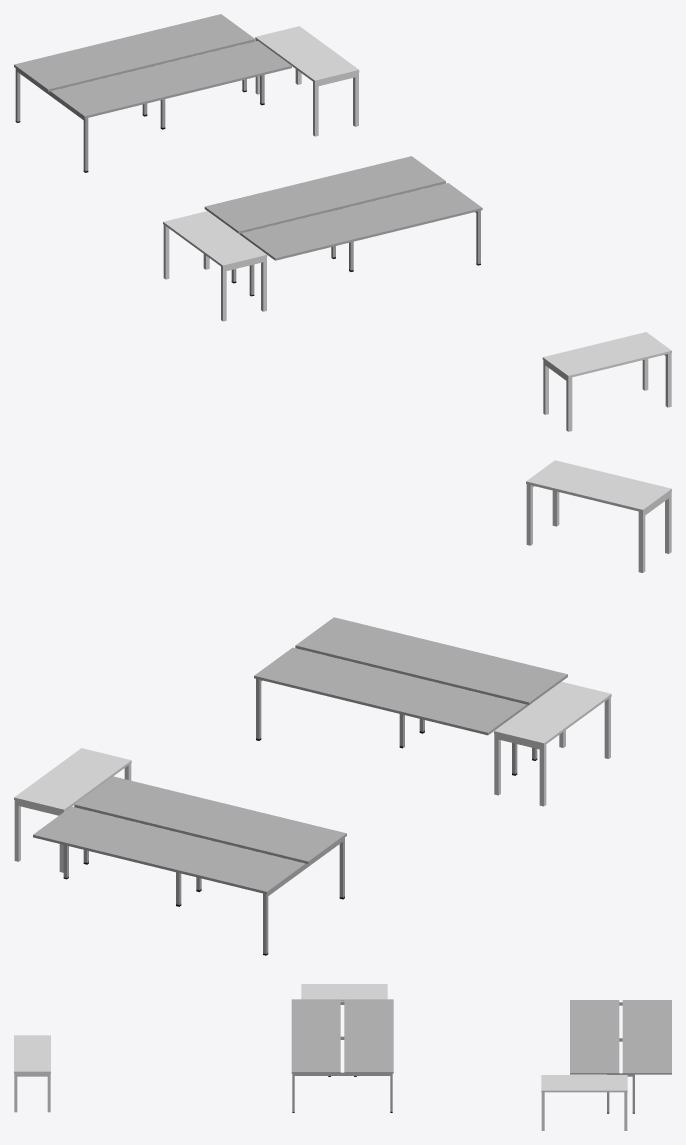
The model's file is whiteTable.glb.
The picture shows the model from 3 angles, top to bottom: view 1: azimuth 30°, elevation 25°; view 2: azimuth 150°, elevation 25°; view 3: azimuth 270°, elevation 25°; orthographic projection. The views are drawn at different scales.
Parts seen in each view (by area): view 1: BigWhiteTables, SmallWhiteTables; view 2: BigWhiteTables, SmallWhiteTables; view 3: BigWhiteTables, SmallWhiteTables.
Boxes of the visible parts, box(x1,y1,x2,y2) form: BigWhiteTables: box(14, 14, 482, 296); SmallWhiteTables: box(163, 26, 671, 431); BigWhiteTables: box(33, 617, 567, 955); SmallWhiteTables: box(14, 460, 671, 872); BigWhiteTables: box(291, 999, 671, 1113); SmallWhiteTables: box(14, 984, 627, 1130).
Bounding box in the file's own units: 3.38 × 0.6117 × 8.83.
2 materials, 1 textured.
